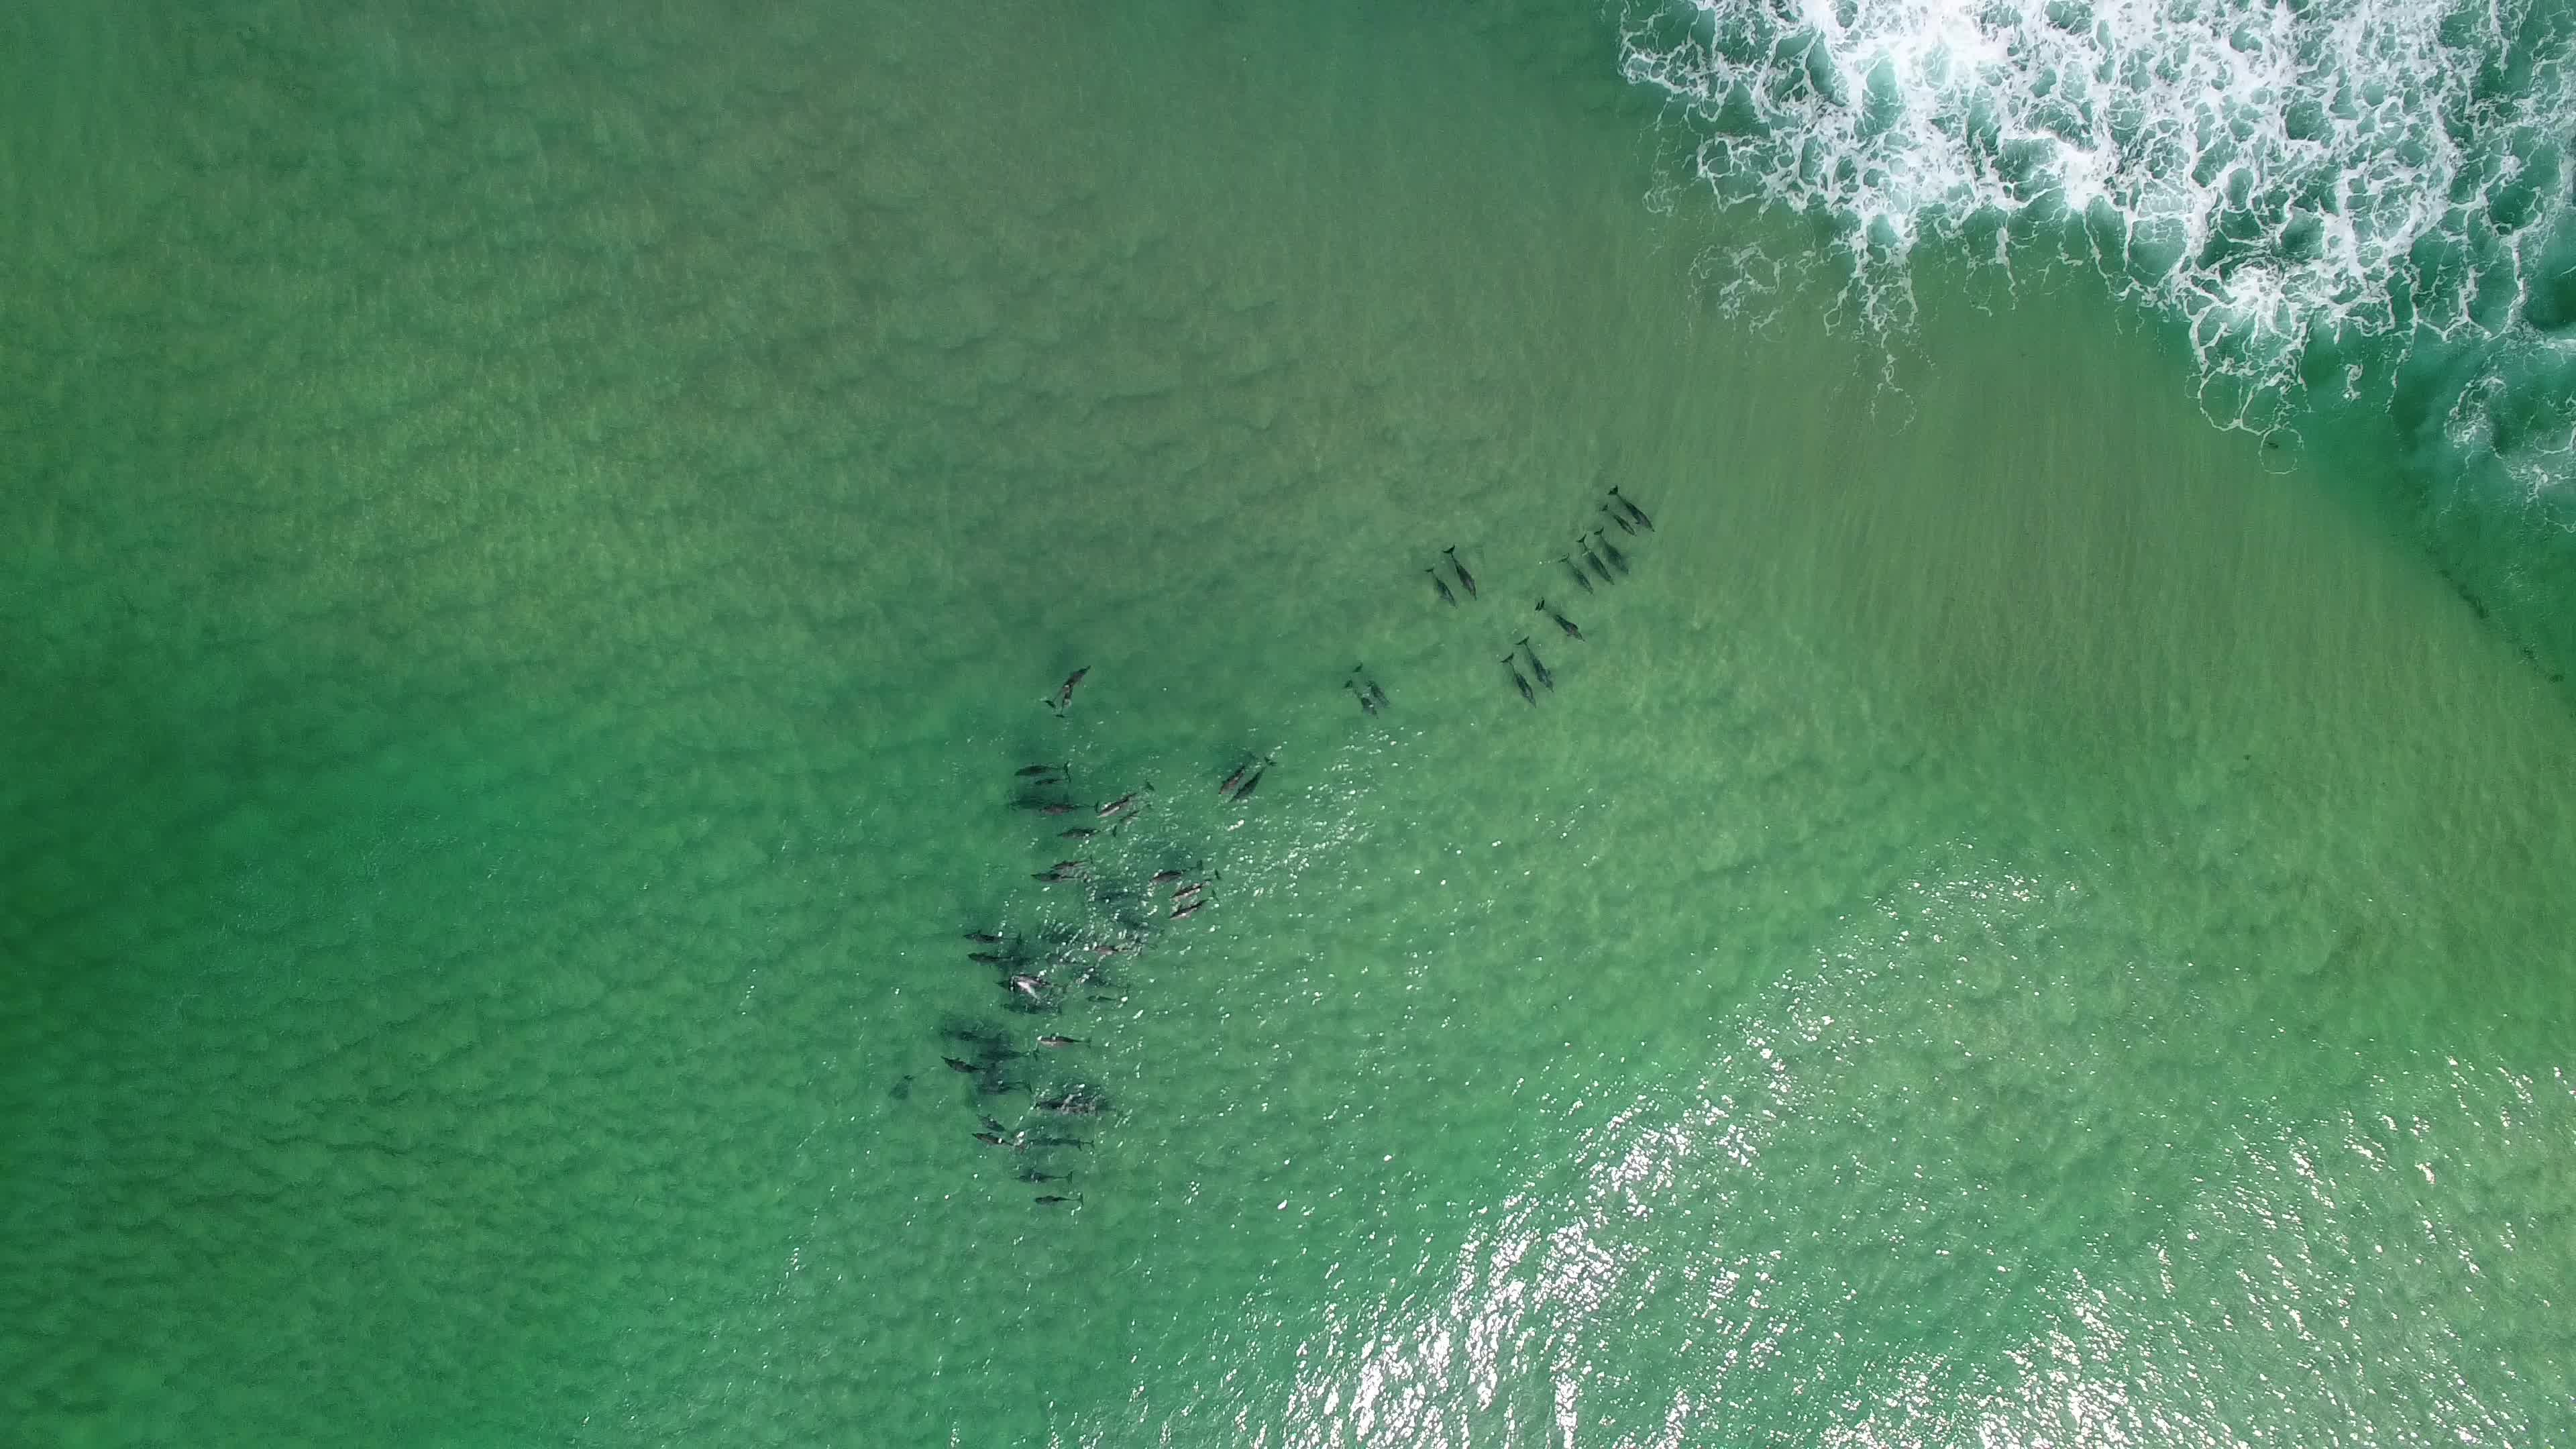dolphin: (1525, 589, 1592, 653), (1438, 533, 1484, 610), (1511, 630, 1564, 695), (1606, 479, 1668, 534), (1557, 543, 1606, 610), (1499, 639, 1541, 713), (1582, 518, 1640, 571), (1410, 556, 1460, 617), (955, 913, 1031, 952), (1350, 653, 1398, 715), (1587, 494, 1642, 547), (1571, 529, 1621, 586), (1035, 1077, 1106, 1116), (1047, 662, 1100, 713), (1003, 786, 1079, 821), (1139, 853, 1215, 888), (1005, 747, 1079, 780), (1095, 780, 1159, 819), (1028, 855, 1099, 888), (1037, 1024, 1099, 1056), (1215, 741, 1251, 789), (1168, 897, 1226, 924), (1063, 957, 1116, 985), (938, 1047, 984, 1079), (939, 1019, 994, 1046), (1237, 759, 1267, 807), (977, 1072, 1033, 1097), (1028, 1131, 1093, 1152), (1093, 934, 1152, 957), (964, 945, 1021, 968), (1024, 1191, 1095, 1208), (971, 1131, 1024, 1154), (1058, 817, 1104, 844), (973, 1111, 1017, 1136), (1083, 987, 1123, 1012), (1161, 878, 1224, 892), (1024, 1171, 1079, 1187)
